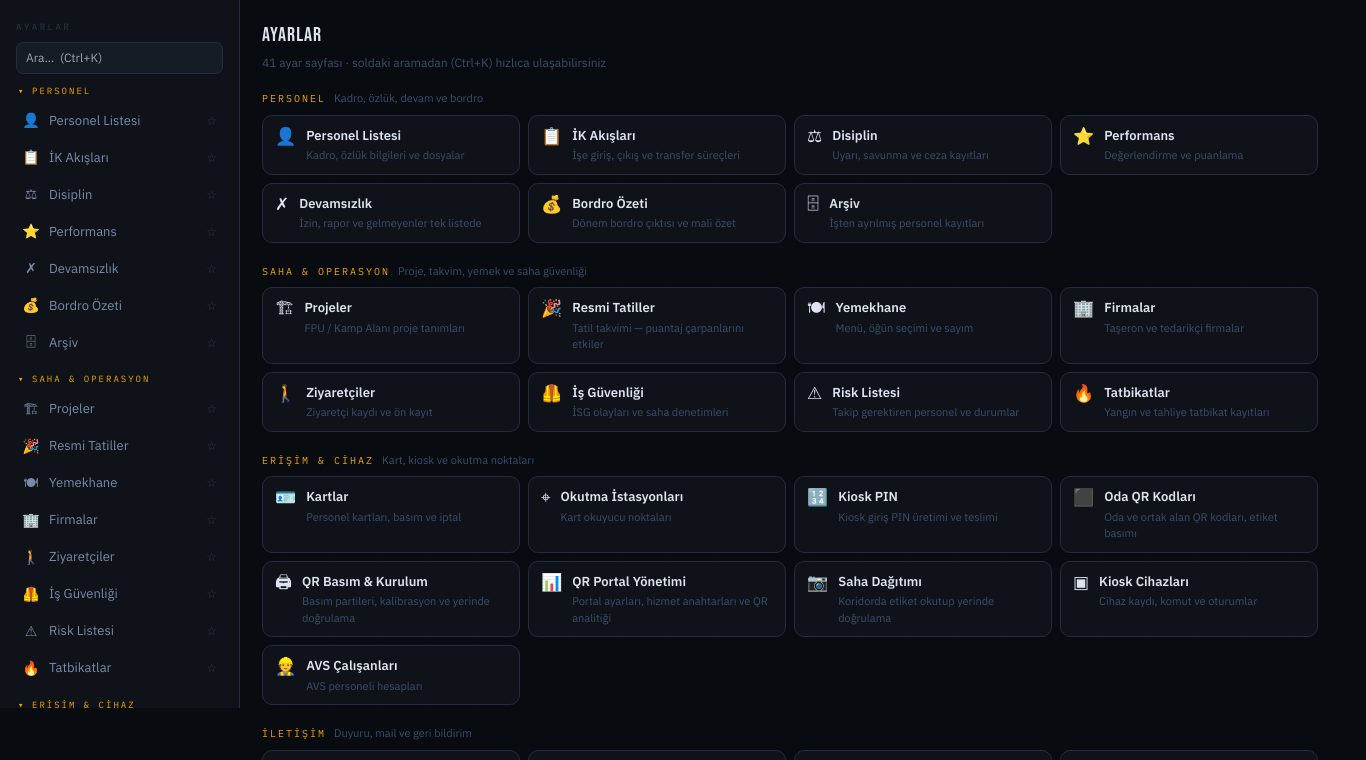
it: arama › yazınca listeyi süzer ve sonuç sayısını yazar
The image size is (1366, 760).
In the search field named "Ayarlarda ara": (120, 58) [16,42,223,74], type "yedek"
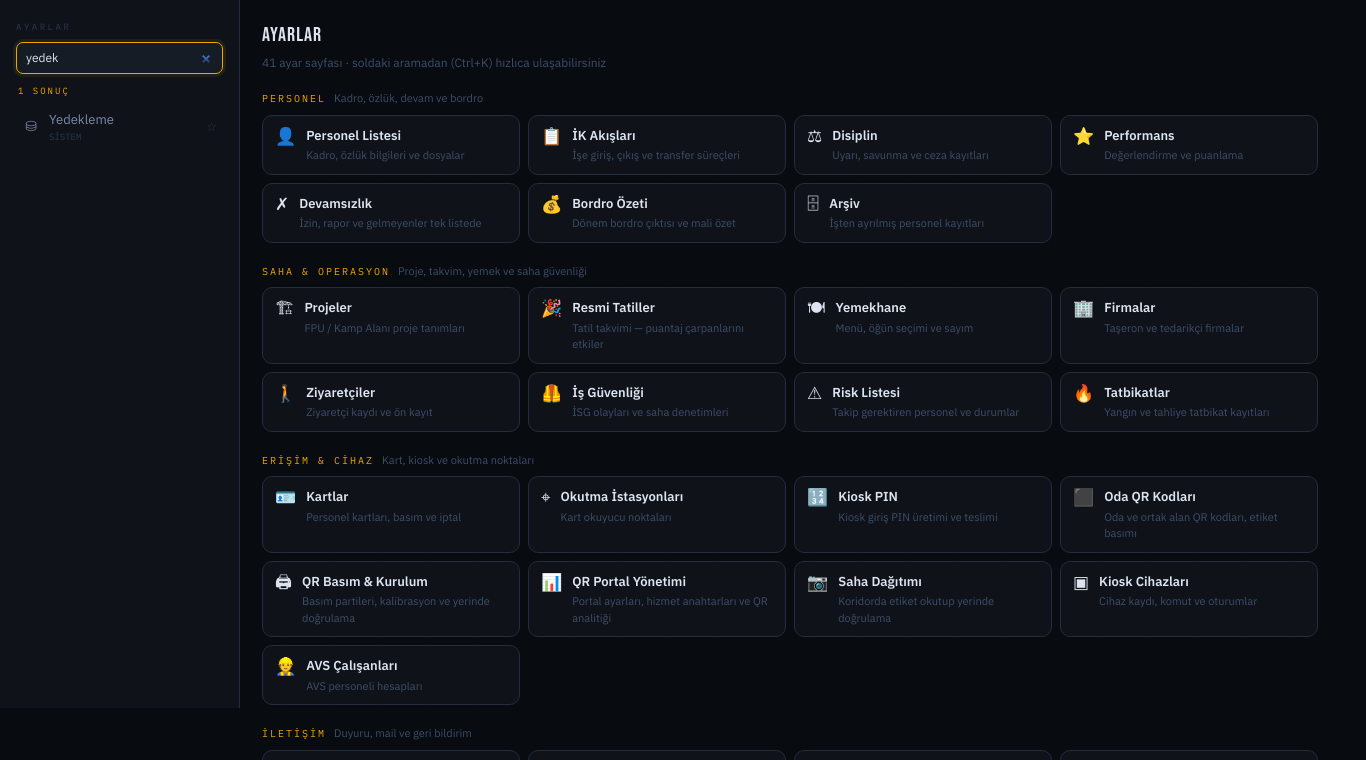
Expected: the text "1 SONUÇ" is shown, [18,84,70,96]
